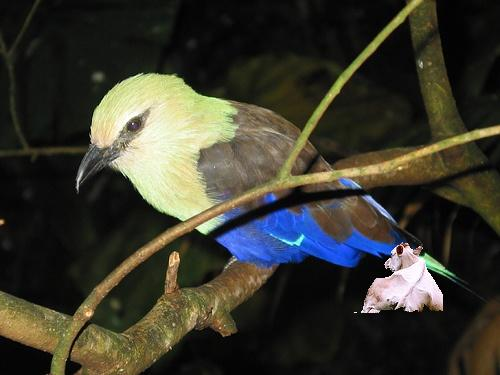tampered: (355, 243, 443, 313)
